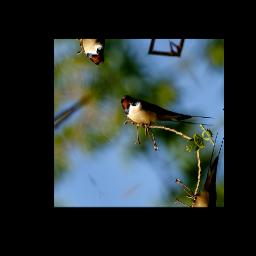Swallow: (117, 58, 218, 165)
